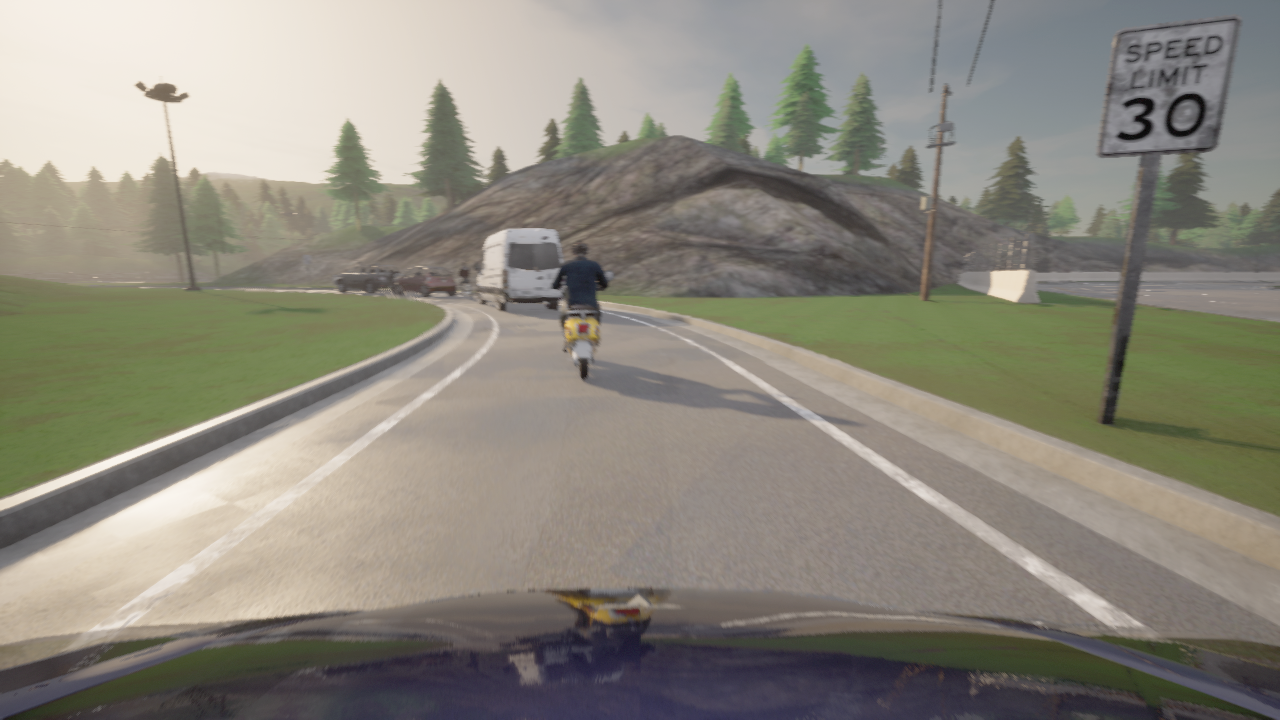cyclist: (0, 588, 1279, 719), (474, 228, 565, 311), (546, 271, 612, 379), (334, 262, 401, 293), (392, 266, 457, 296), (457, 283, 471, 300)
